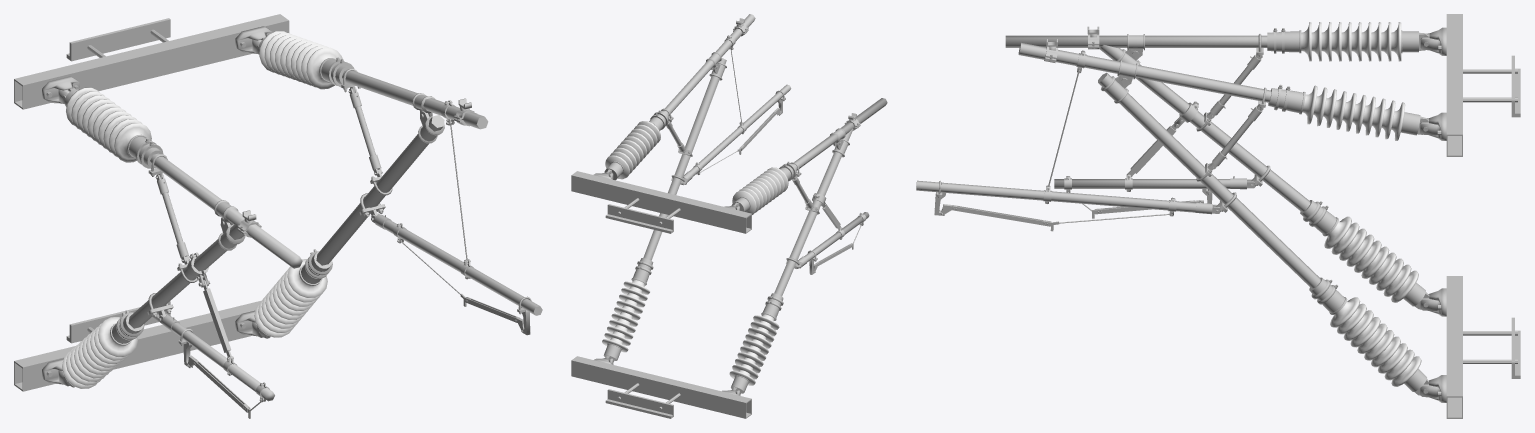
Rendered from single_short_transition_1.obj.
3 renders of one model, left to right at view 1: azimuth 30°, elevation 25°; view 2: azimuth 150°, elevation 25°; view 3: azimuth 270°, elevation 25°, orthographic. The views are drawn at different scales.
Parts seen in each view (by area): view 1: 立方体.801, 立方体.806, 贝塞尔曲线.217, 贝塞尔曲线.208, 立方体.803, 贝塞尔曲线.216, 贝塞尔曲线.207, 贝塞尔曲线.218, 贝塞尔曲线.200, 立方体.804, 柱体.1900, 柱体.1963 (+6 smaller); view 2: 立方体.801, 立方体.806, 贝塞尔曲线.217, 贝塞尔曲线.207, 立方体.804, 立方体.803, 贝塞尔曲线.218, 贝塞尔曲线.208, 贝塞尔曲线.216, 贝塞尔曲线.200, 柱体.2026; view 3: 贝塞尔曲线.217, 贝塞尔曲线.218, 贝塞尔曲线.208, 贝塞尔曲线.207, 贝塞尔曲线.216, 立方体.806, 立方体.801, 贝塞尔曲线.200, 柱体.1872, 柱体.1964, 立方体.728, 柱体.1907 (+2 smaller).
Boxes of the visible parts, x1,y1,x2,y2 form: 立方体.801: (14, 14, 289, 109); 立方体.806: (14, 300, 261, 391); 贝塞尔曲线.217: (316, 115, 444, 265); 贝塞尔曲线.208: (150, 153, 302, 268); 立方体.803: (66, 18, 170, 61); 贝塞尔曲线.216: (383, 220, 542, 315); 贝塞尔曲线.207: (128, 225, 244, 328); 贝塞尔曲线.218: (342, 70, 488, 129); 贝塞尔曲线.200: (171, 322, 274, 401); 立方体.804: (66, 301, 170, 343); 柱体.1900: (98, 317, 137, 357); 柱体.1963: (306, 47, 342, 89); 立方体.801: (571, 171, 751, 233); 立方体.806: (571, 356, 751, 418); 贝塞尔曲线.217: (643, 58, 726, 260); 贝塞尔曲线.207: (774, 128, 853, 296); 立方体.804: (605, 389, 673, 418); 立方体.803: (605, 204, 673, 233); 贝塞尔曲线.218: (663, 14, 755, 116); 贝塞尔曲线.208: (792, 98, 887, 170); 贝塞尔曲线.216: (689, 84, 791, 176); 贝塞尔曲线.200: (804, 212, 869, 262); 柱体.2026: (631, 258, 653, 285); 贝塞尔曲线.217: (1098, 72, 1320, 288); 贝塞尔曲线.218: (1018, 42, 1271, 102); 贝塞尔曲线.208: (1005, 35, 1267, 47); 贝塞尔曲线.207: (1099, 45, 1310, 212); 贝塞尔曲线.216: (916, 180, 1196, 212); 立方体.806: (1446, 276, 1462, 418); 立方体.801: (1446, 14, 1462, 156); 贝塞尔曲线.200: (1054, 179, 1230, 188); 柱体.1872: (1267, 30, 1301, 53); 柱体.1964: (1268, 88, 1305, 114); 立方体.728: (951, 205, 1051, 226); 柱体.1907: (1300, 200, 1338, 236).
Bounding box in the file's own units: 1.72 × 2.41 × 3.64.
